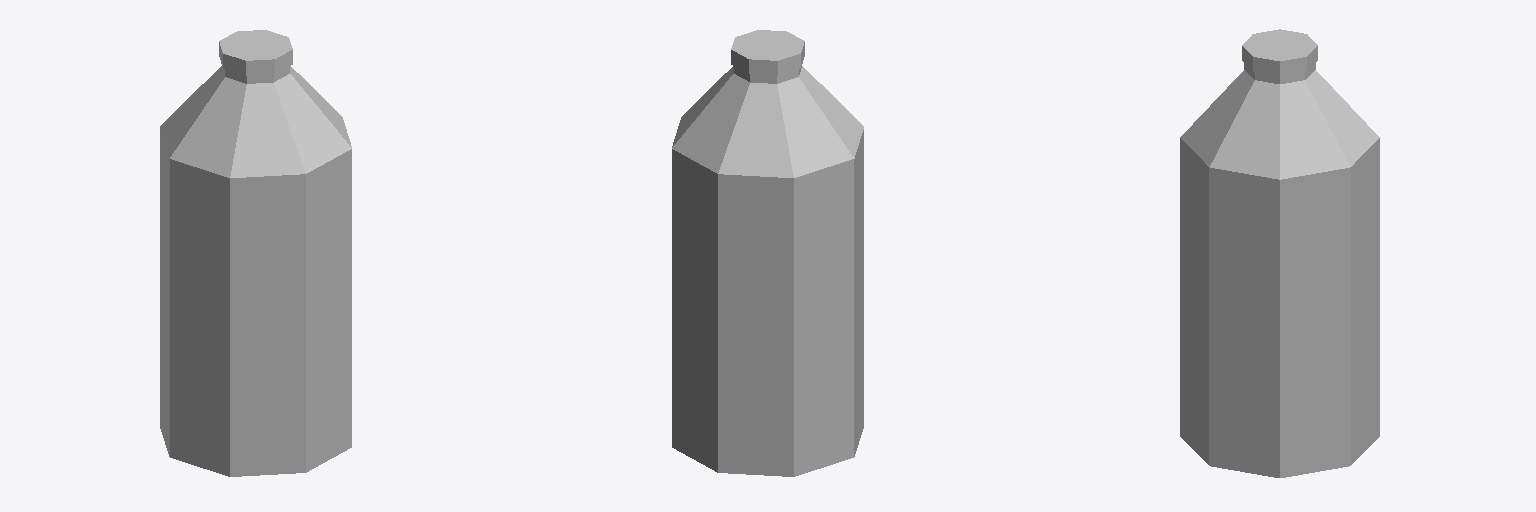
Rendered from milkBottle.obj.
3 renders of one model, left to right at view 1: azimuth 30°, elevation 25°; view 2: azimuth 150°, elevation 25°; view 3: azimuth 270°, elevation 25°, orthographic.
Parts seen in each view (by area): view 1: milkBottle; view 2: milkBottle; view 3: milkBottle.
Boxes of the visible parts, x1,y1,x2,y2 form: milkBottle: [160, 30, 351, 476]; milkBottle: [672, 30, 863, 476]; milkBottle: [1180, 29, 1379, 477].
Size of the model in its own units: 0.324 by 0.7541 by 0.324.